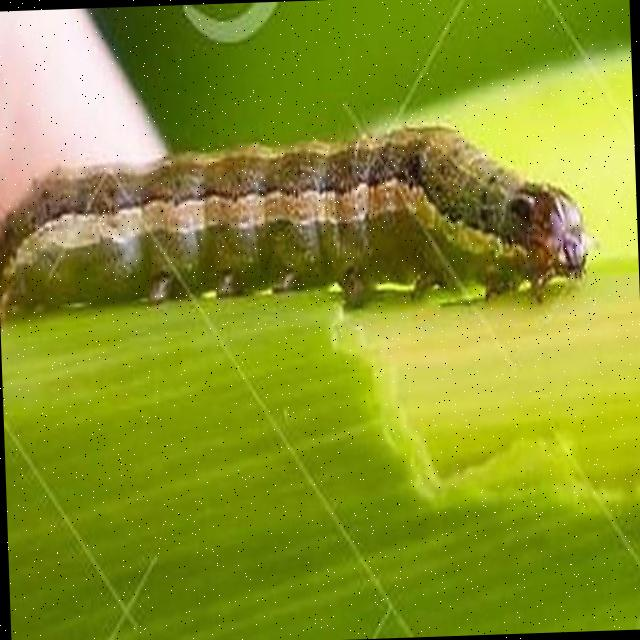worm: (1, 115, 592, 332)
